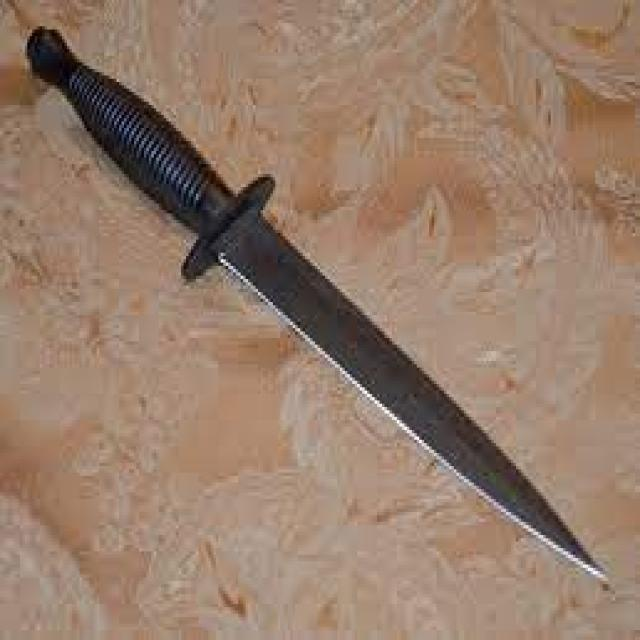Gun: (26, 13, 611, 590)
